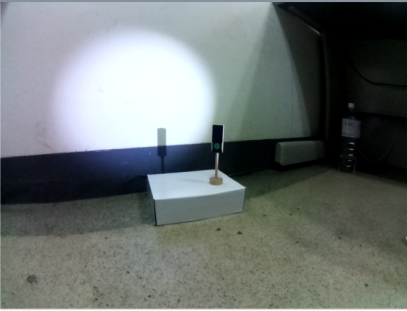Green: (209, 124, 226, 154)
